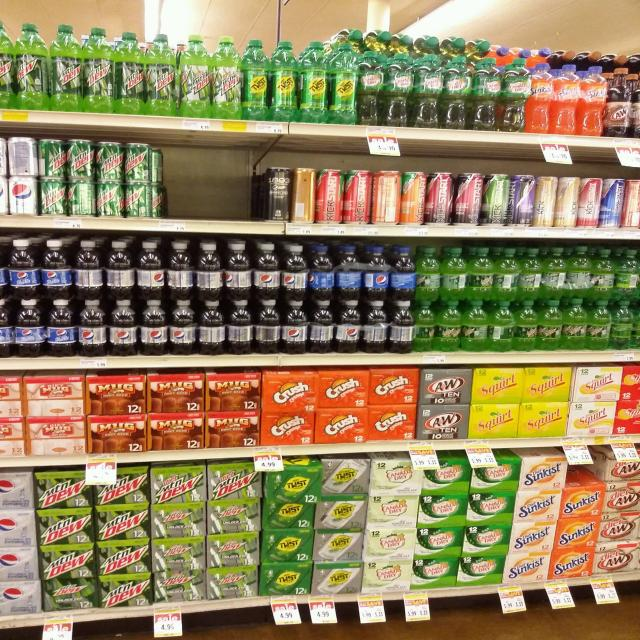unorganised: (568, 449, 606, 490)
